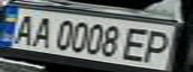0: (51, 17, 75, 52), (84, 20, 106, 56), (69, 19, 90, 54)
8: (100, 22, 127, 60)
A: (6, 11, 39, 46), (27, 15, 57, 48)
E: (118, 25, 157, 62)
P: (136, 28, 178, 64)
